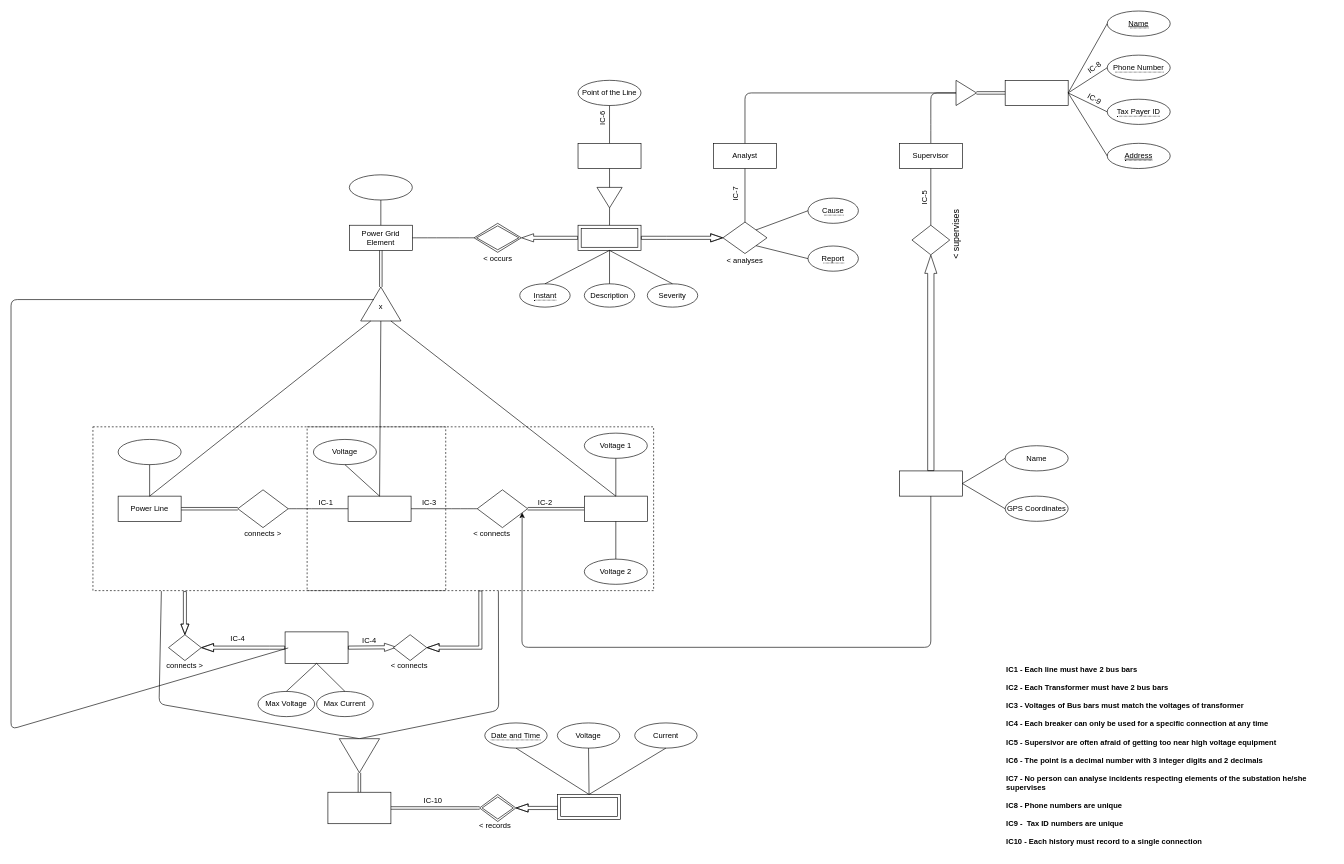
Image size: 1344x864. Some labels were removed from this diagram. Here are the shapes that lost their labels. From the top down, the centre of each, then its label:
[1036,93]: Person
[609,156]: Incident In Power Line
[380,187]: id
[609,237]: Incident
[149,452]: Impedance
[930,483]: Substation
[379,508]: Bus Bar
[615,508]: Transformer
[316,647]: Breaker
[359,808]: Connection
[589,807]: History
